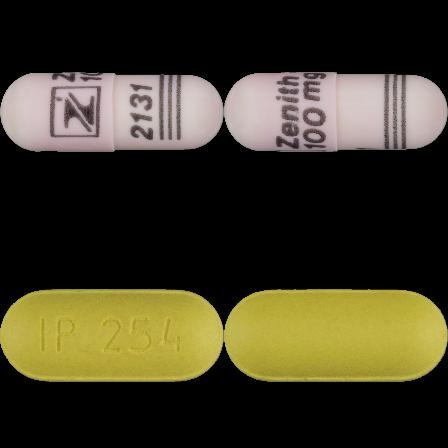16590-380: (0, 0, 224, 224)
